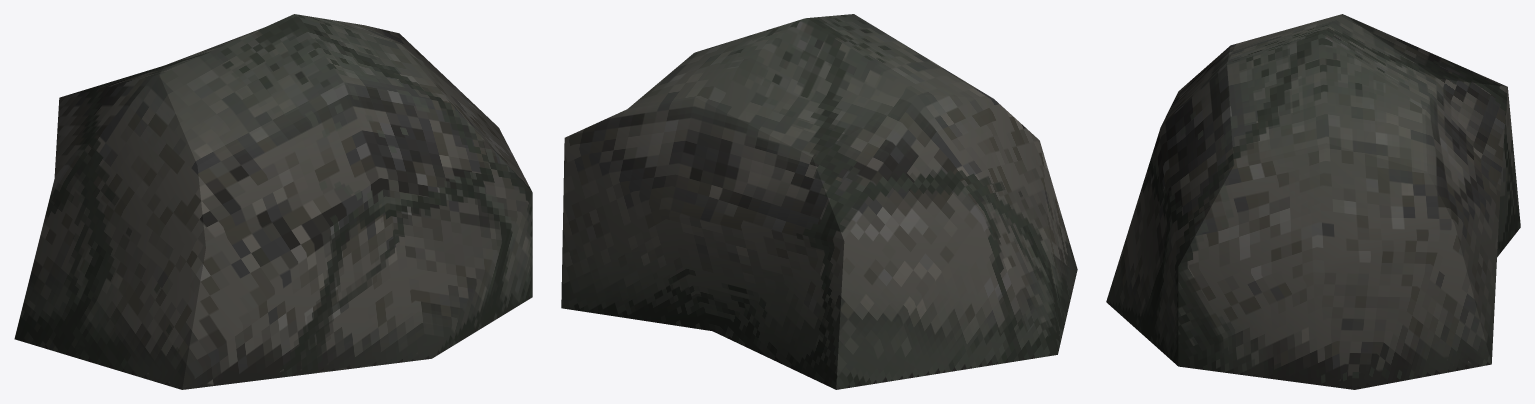
File: rock2.fbx
The picture shows the model from 3 angles, left to right: view 1: azimuth 30°, elevation 25°; view 2: azimuth 150°, elevation 25°; view 3: azimuth 270°, elevation 25°; orthographic projection. The views are drawn at different scales.
Visible parts, largest first — view 1: rock2; view 2: rock2; view 3: rock2.
Part boxes in pixels (x1=…): rock2: x1=14, y1=14, x2=532, y2=389; rock2: x1=561, y1=14, x2=1077, y2=389; rock2: x1=1106, y1=14, x2=1520, y2=389.
Size of the model in its own units: 1.48 by 0.7851 by 1.15.
